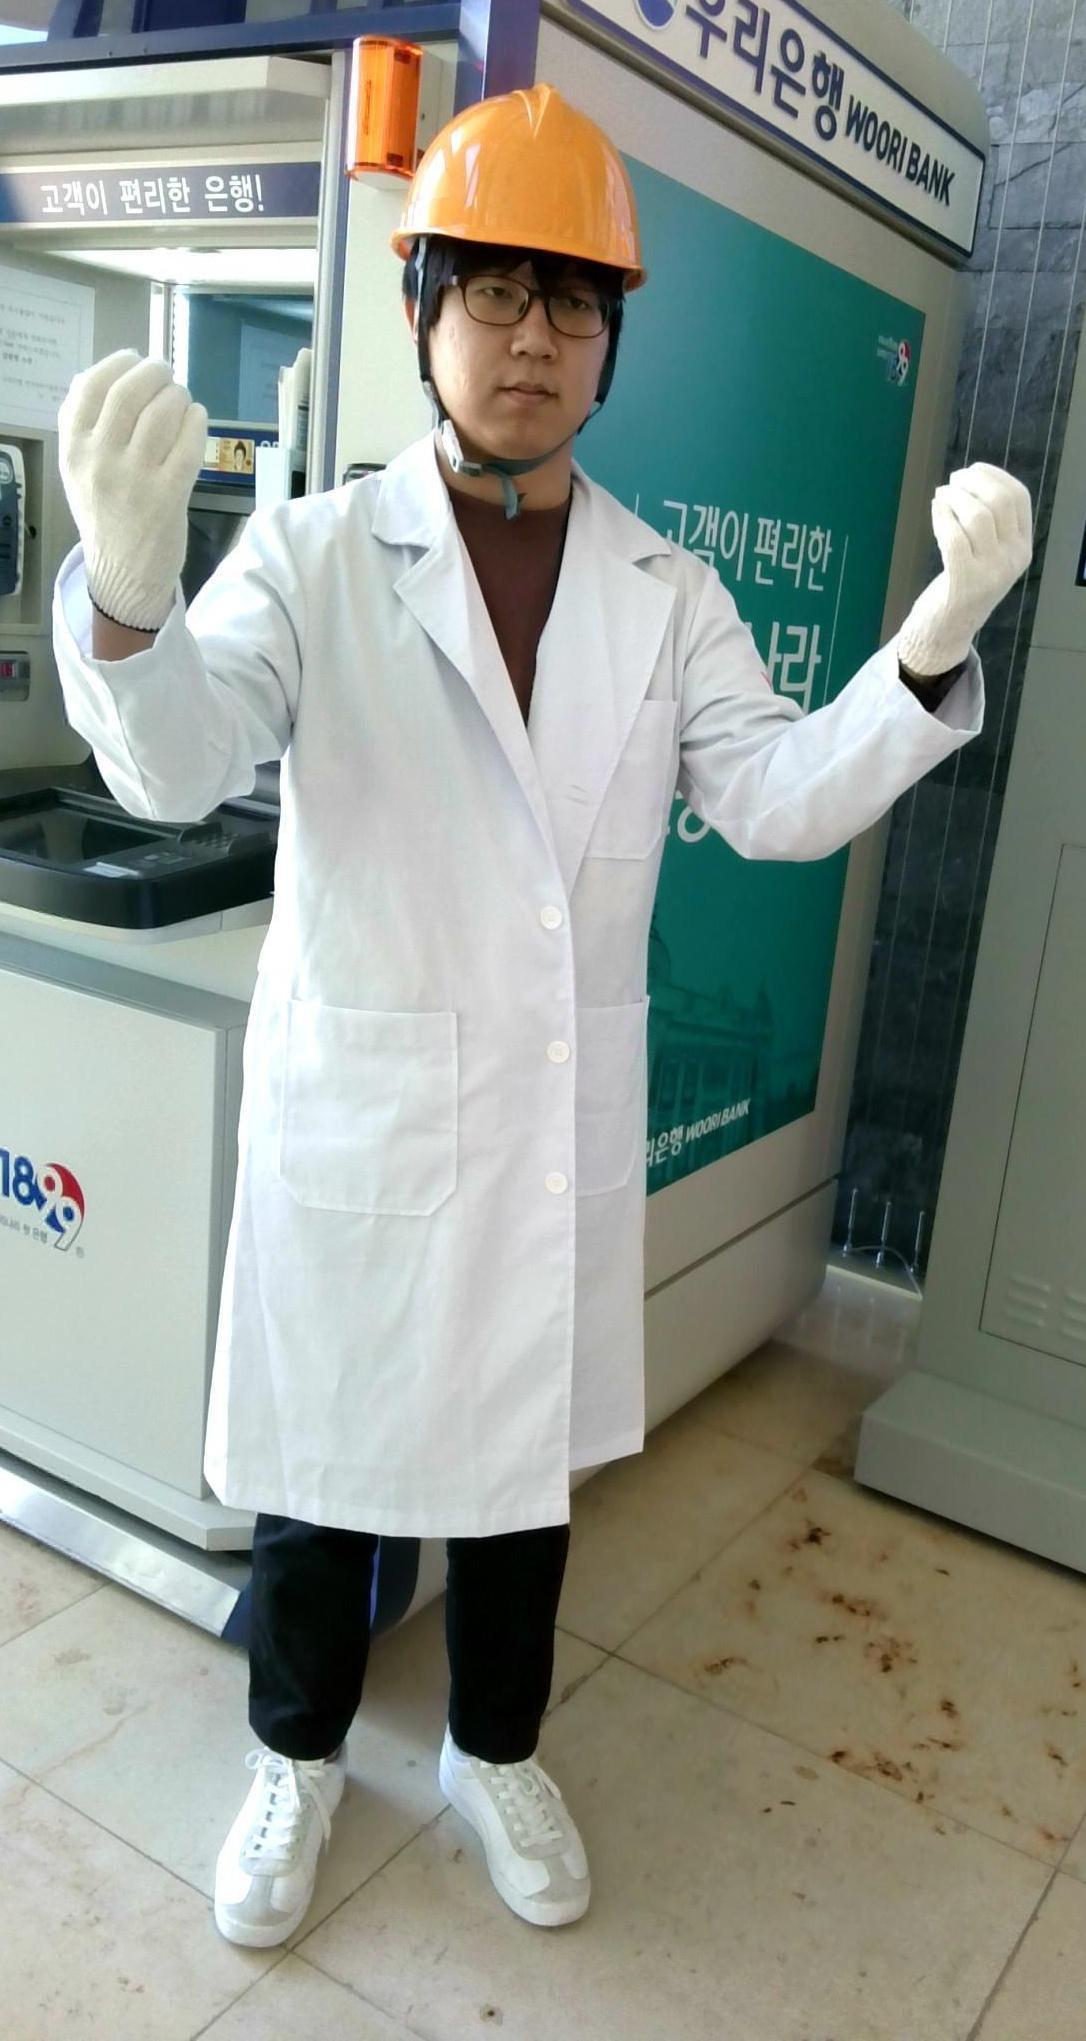lab_coat: (194, 530, 711, 1512)
